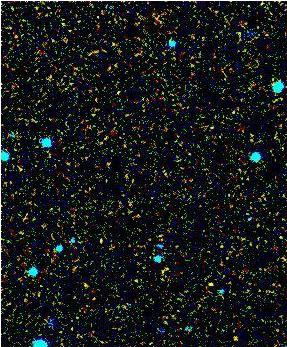star: (198, 269, 228, 299)
